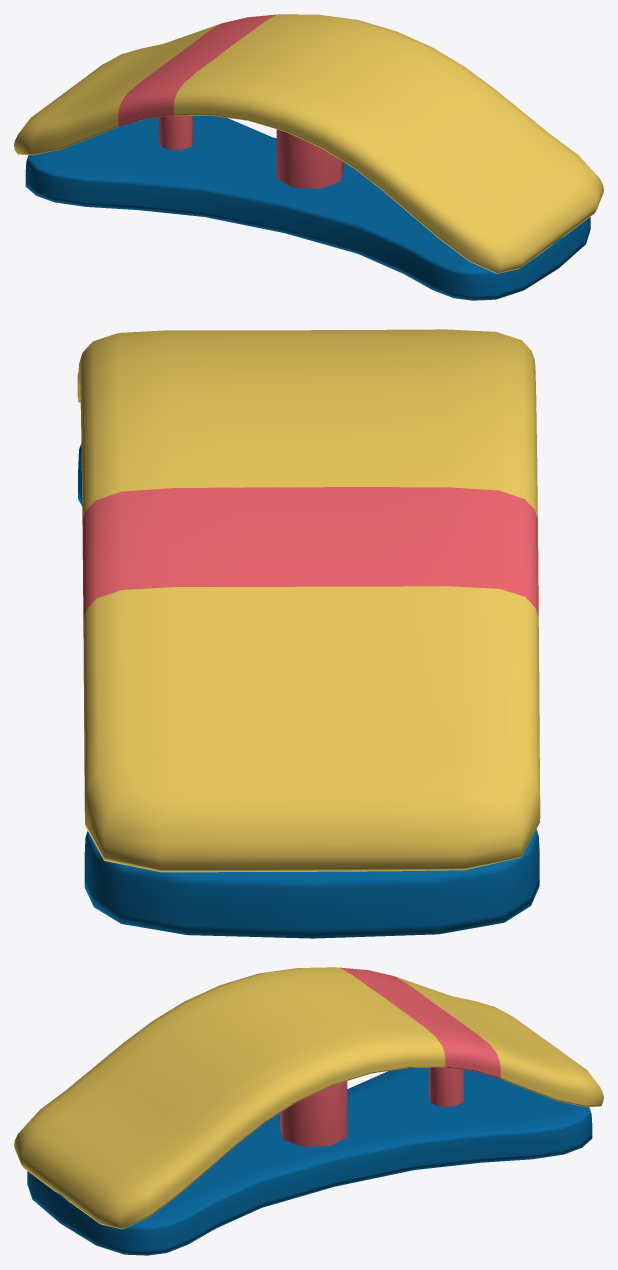
The model's file is cuestaToy_FBX.fbx.
The picture shows the model from 3 angles, top to bottom: view 1: azimuth 30°, elevation 25°; view 2: azimuth 150°, elevation 25°; view 3: azimuth 270°, elevation 25°; orthographic projection. The views are drawn at different scales.
Parts seen in each view (by area): view 1: cuestaToy_FBX; view 2: cuestaToy_FBX; view 3: cuestaToy_FBX.
Boxes of the visible parts, bbox=[...] form: cuestaToy_FBX: bbox=[14, 14, 603, 300]; cuestaToy_FBX: bbox=[77, 329, 540, 938]; cuestaToy_FBX: bbox=[14, 967, 603, 1255].
Bounding box in the file's own units: 870 × 323 × 1105.
